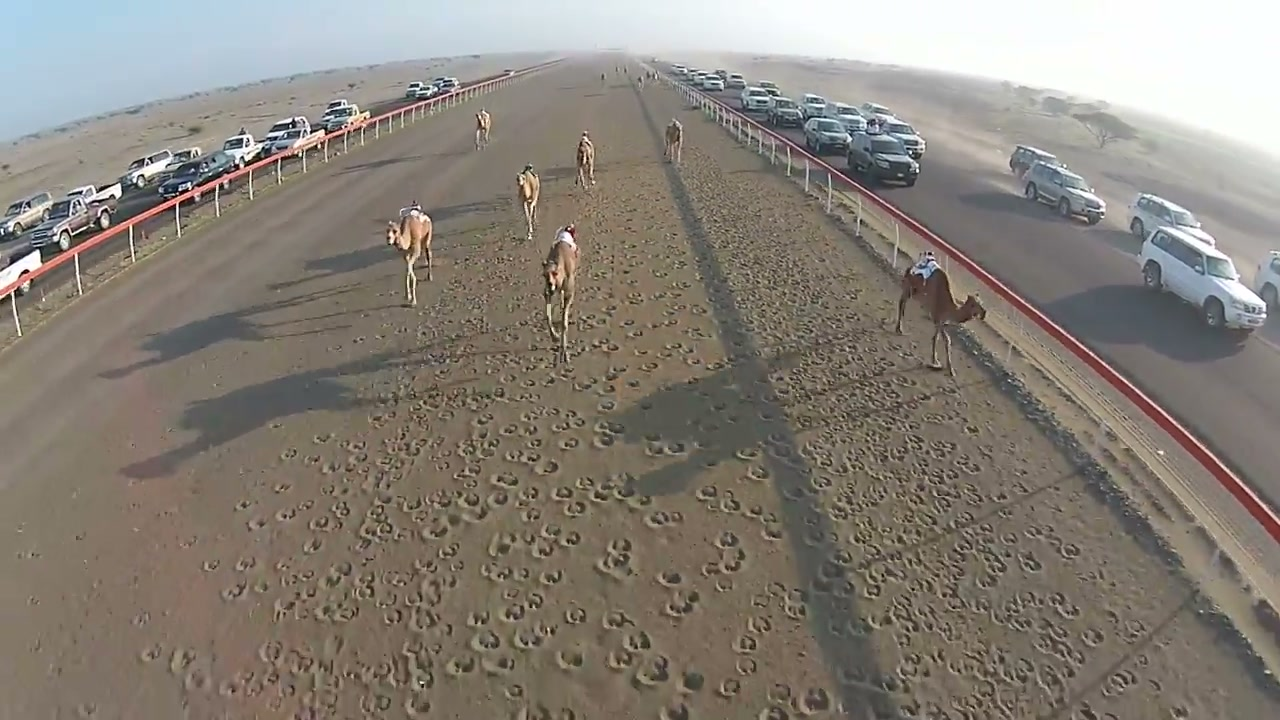animal_footprint: (121, 120, 1265, 718)
